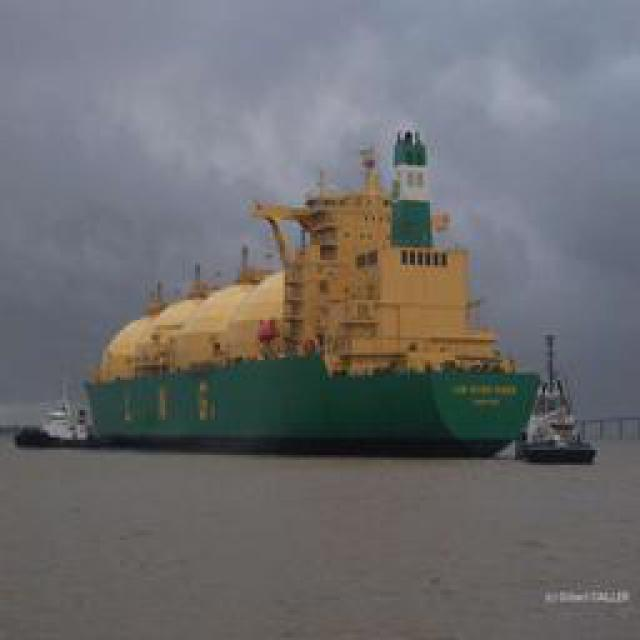Ship: (82, 135, 533, 459), (524, 335, 599, 465), (12, 367, 89, 451)
